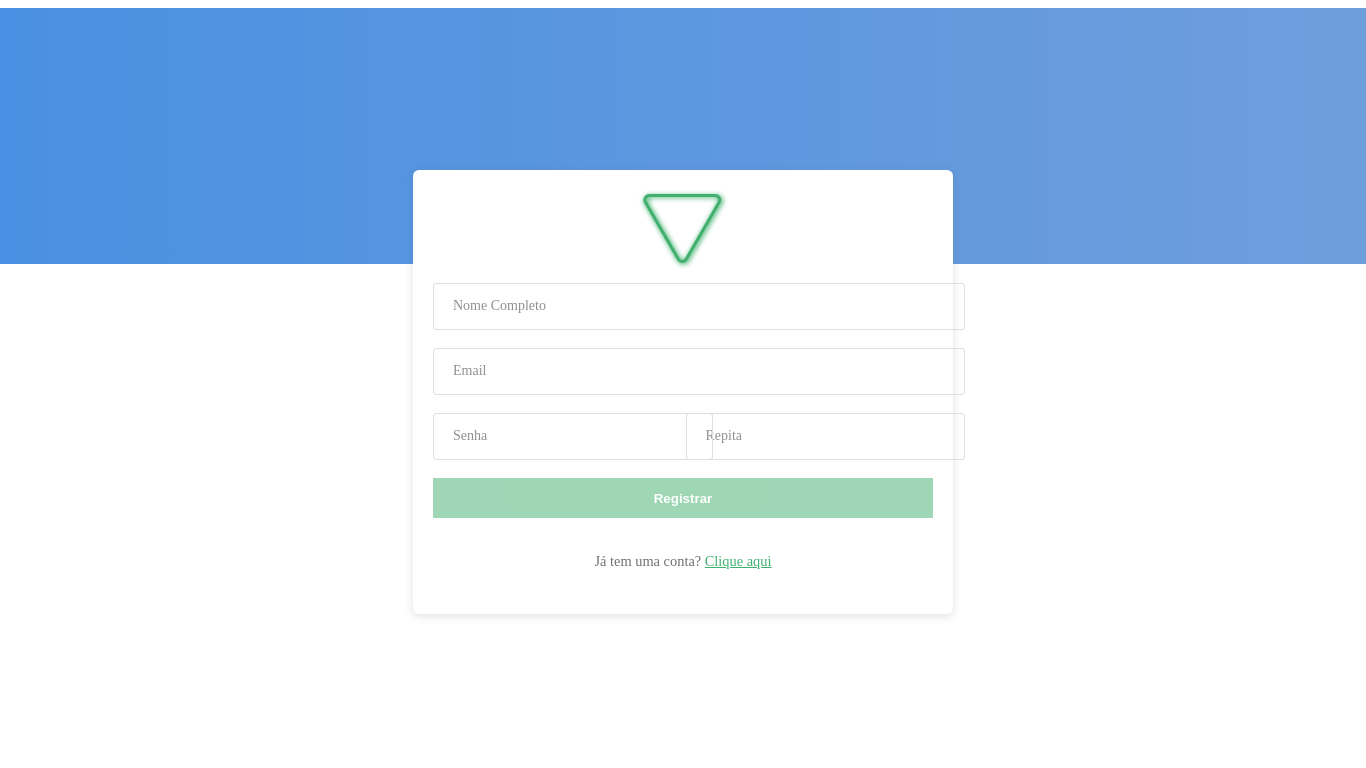
Test: RegisterScreen › Exibe uma mensagem de erro quando as credenciais são inválidas
This screenshot has width=1366, height=768.
Type "fail leal" into the field labelled "Nome Completo". click: [699, 307]
box: [433,283,965,330]
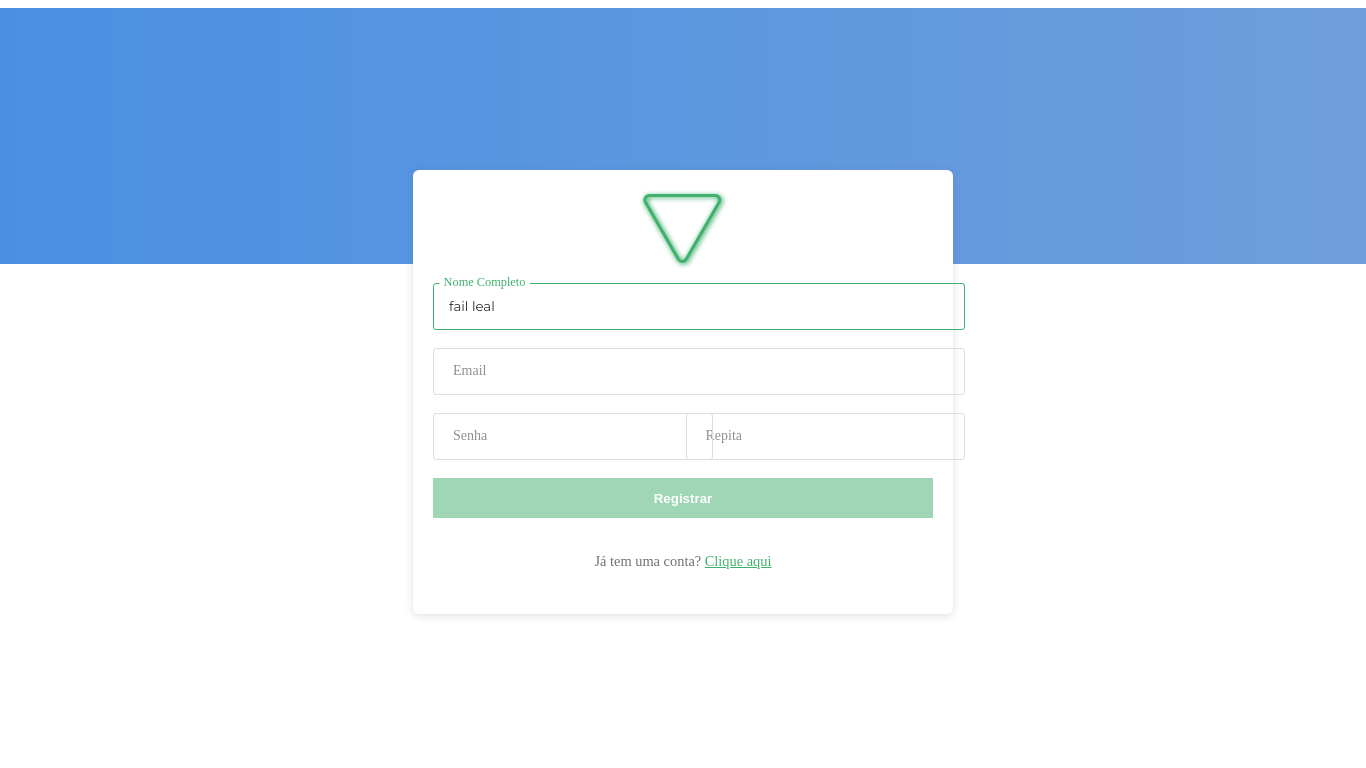
Type "fail@example.com" into the field labelled "Email". click: [699, 372]
box: [433,348,965,395]
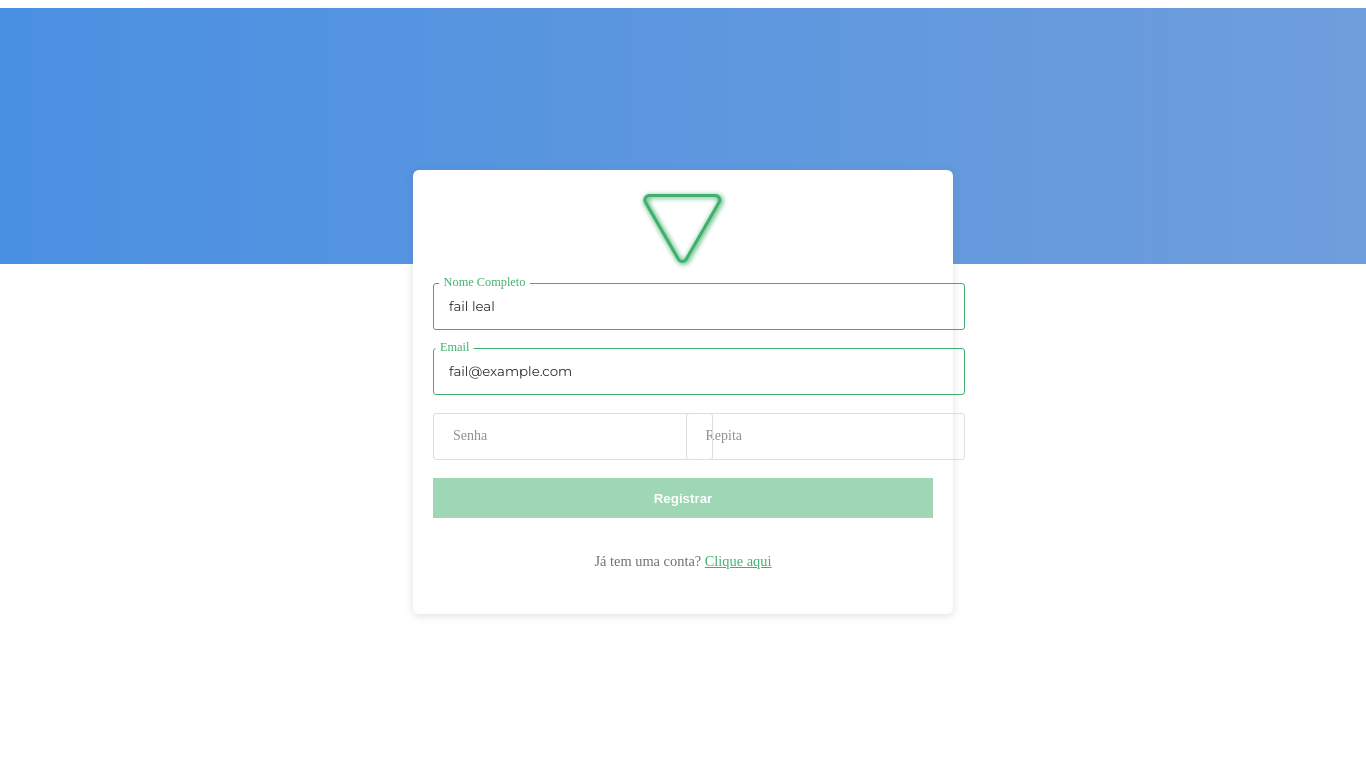
Type "wrongpass" into the password field labelled "Senha". click: [573, 437]
box: [433,413,712,460]
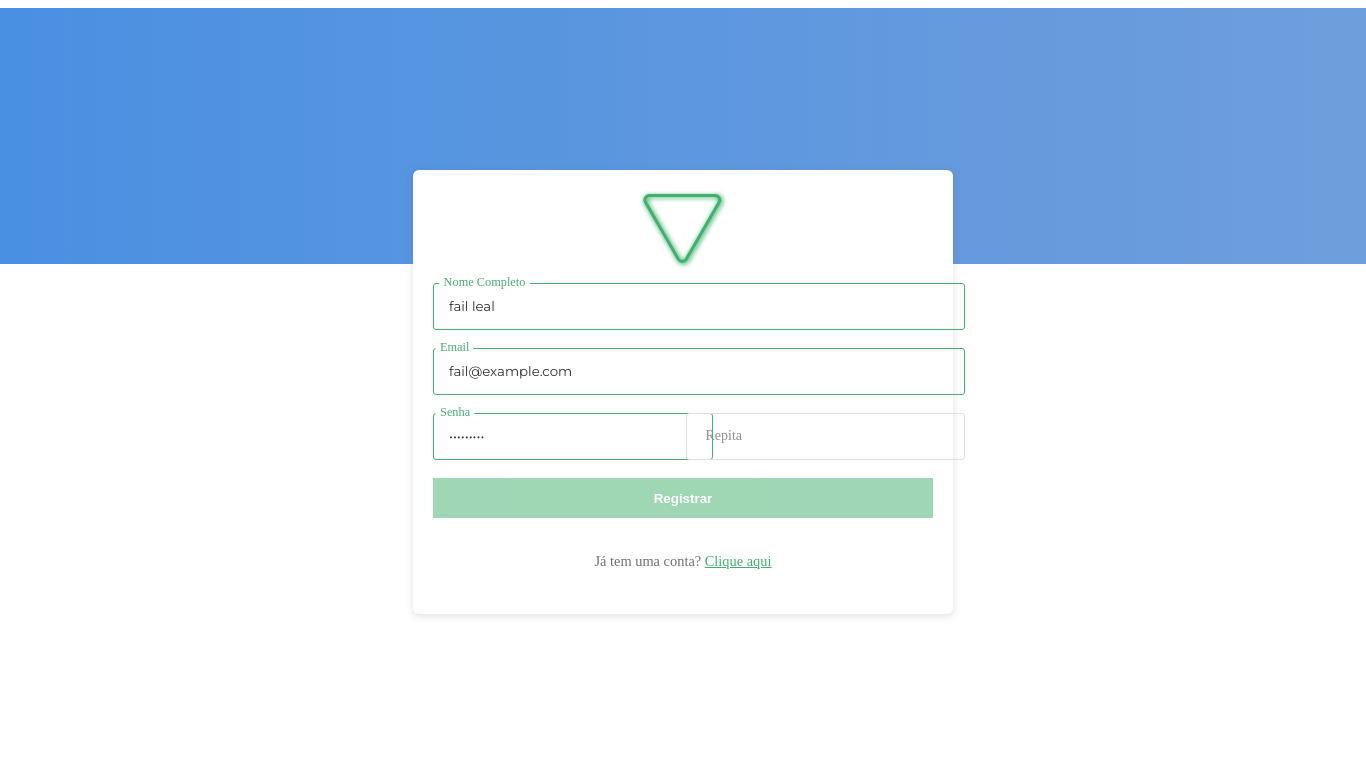
Type "wrongpass" into the password field labelled "Repita". click: [825, 437]
box: [686,413,965,460]
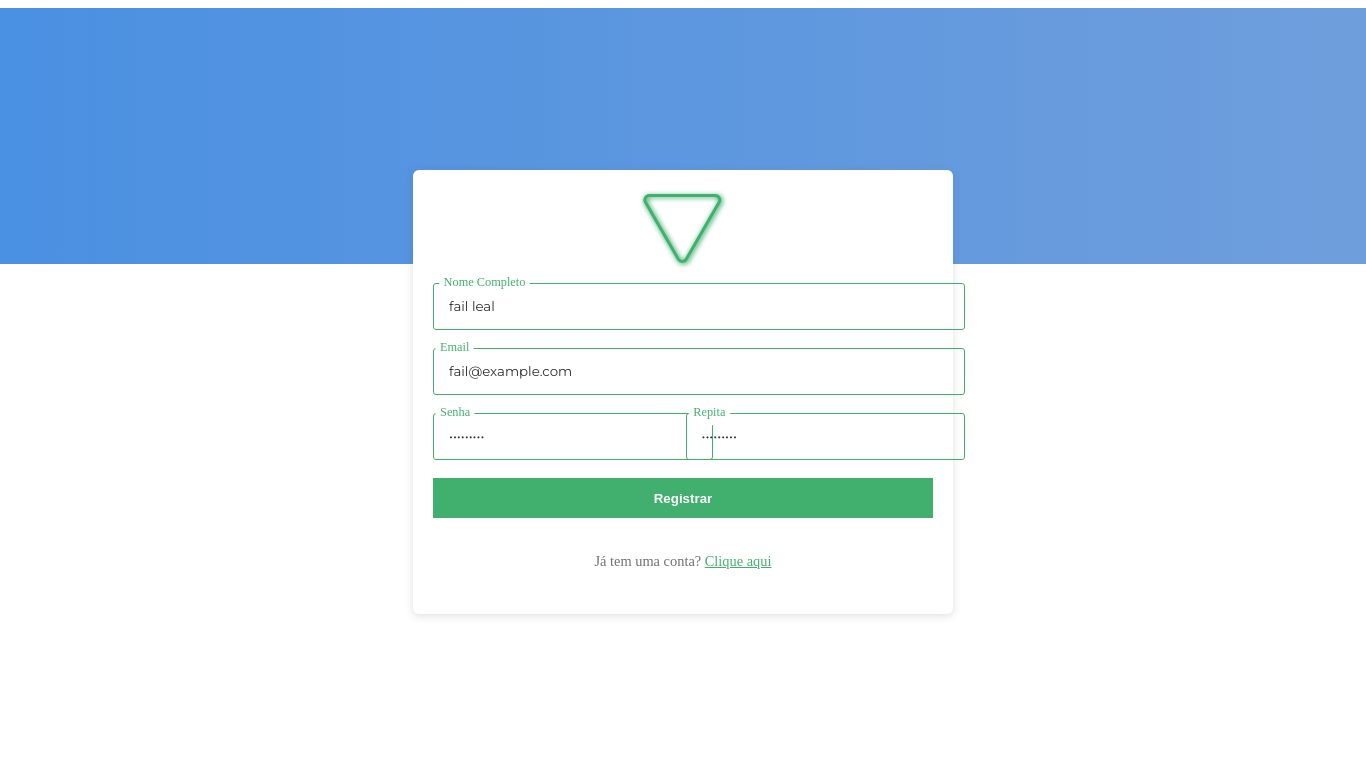
Click the button "Registrar". click: [683, 498]
box: [433,478,933,518]
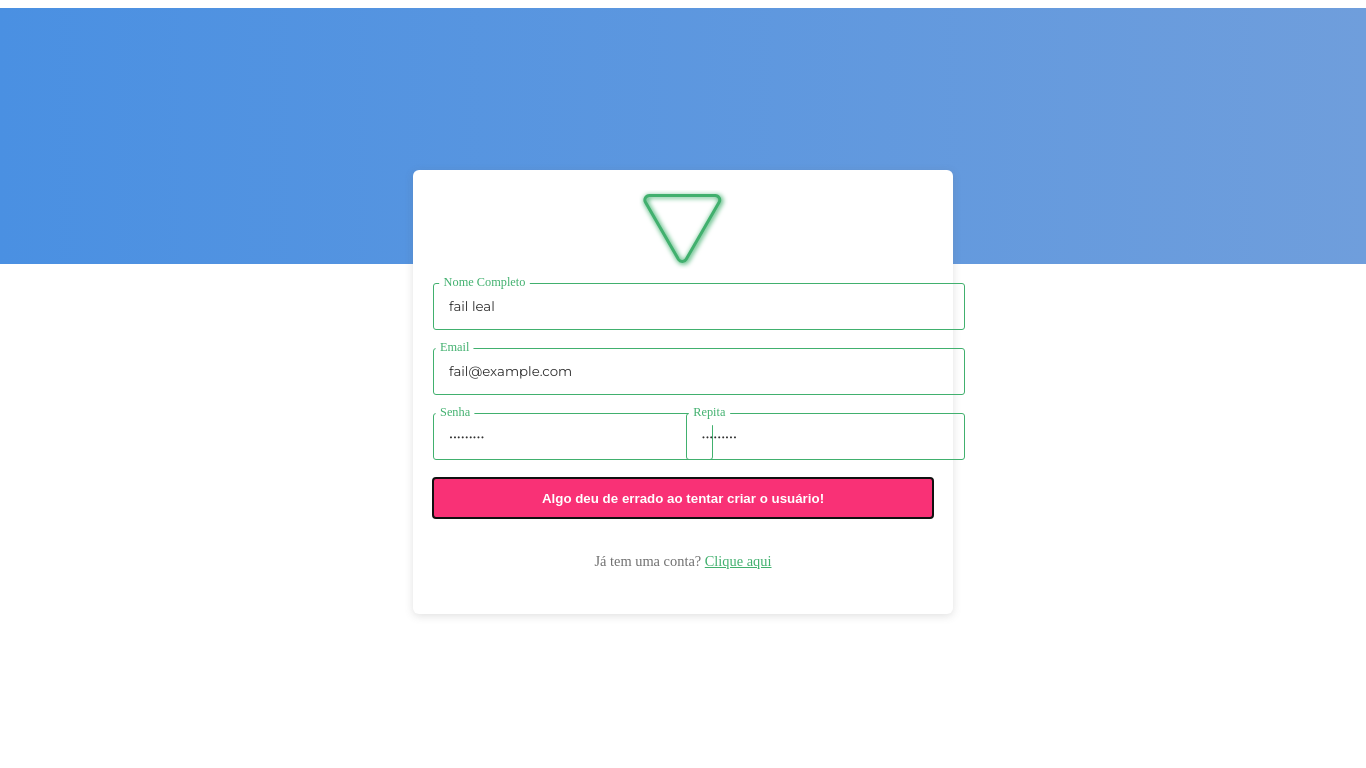
Check: the button "Algo deu de errado ao tentar criar o usuário!" is shown, box [433,478,933,518]
